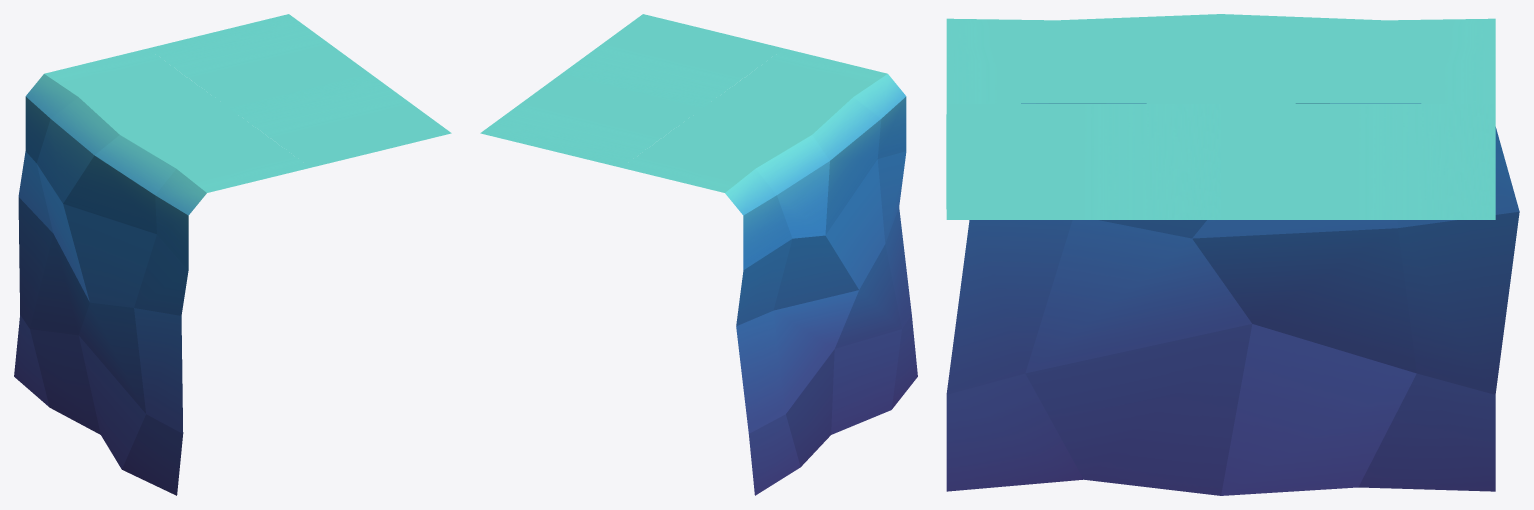
3 views of the same model, side by side, from view 1: azimuth 30°, elevation 25°; view 2: azimuth 150°, elevation 25°; view 3: azimuth 270°, elevation 25° (orthographic). The views are drawn at different scales.
Parts seen in each view (by area): view 1: Side.015, SideSmallRight.006, TopNoWalls.002, TopNoWalls.016, TopSide.012, TopSide.011, SideSmallLeft.006; view 2: Side.015, SideSmallLeft.006, TopNoWalls.016, TopNoWalls.002, TopSide.011, TopSide.012, SideSmallRight.006; view 3: Side.015, TopNoWalls.002, TopNoWalls.016, SideSmallLeft.006, SideSmallRight.006, TopSide.011, TopSide.012.
Part boxes in pixels (x1=…): Side.015: x1=30, y1=97, x2=175, y2=469; SideSmallRight.006: x1=122, y1=169, x2=206, y2=495; TopNoWalls.002: x1=229, y1=73, x2=451, y2=167; TopNoWalls.016: x1=148, y1=14, x2=369, y2=107; TopSide.012: x1=120, y1=108, x2=310, y2=192; TopSide.011: x1=44, y1=48, x2=228, y2=134; SideSmallLeft.006: x1=14, y1=74, x2=78, y2=407; Side.015: x1=756, y1=97, x2=901, y2=466; SideSmallLeft.006: x1=725, y1=169, x2=800, y2=495; TopNoWalls.016: x1=480, y1=73, x2=702, y2=167; TopNoWalls.002: x1=562, y1=14, x2=783, y2=107; TopSide.011: x1=621, y1=108, x2=811, y2=192; TopSide.012: x1=703, y1=48, x2=887, y2=134; SideSmallRight.006: x1=853, y1=74, x2=917, y2=409; Side.015: x1=1025, y1=103, x2=1416, y2=495; TopNoWalls.002: x1=946, y1=104, x2=1220, y2=219; TopNoWalls.016: x1=1221, y1=104, x2=1495, y2=219; SideSmallLeft.006: x1=1358, y1=103, x2=1519, y2=491; SideSmallRight.006: x1=946, y1=103, x2=1083, y2=491; TopSide.011: x1=1221, y1=14, x2=1495, y2=103; TopSide.012: x1=946, y1=14, x2=1220, y2=103.
Size of the model in its own units: 615 by 600 by 627.
